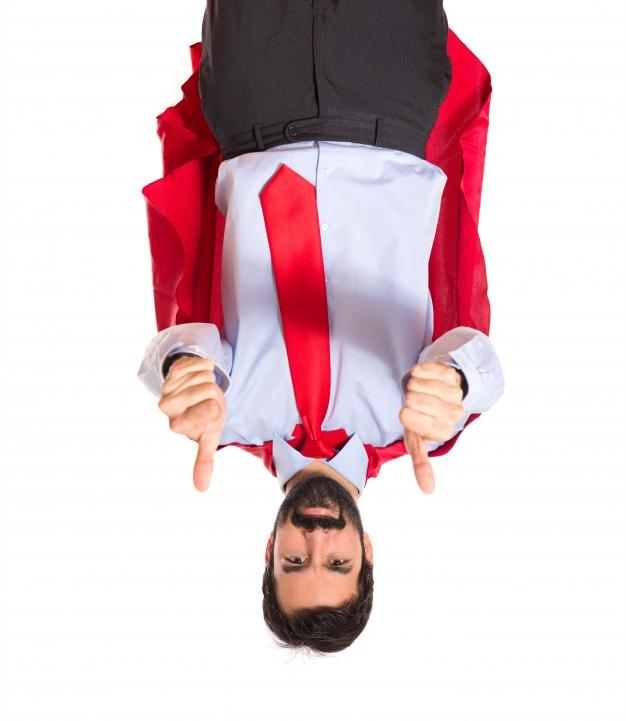thumbsdown: (157, 356, 223, 493), (400, 362, 465, 495)
